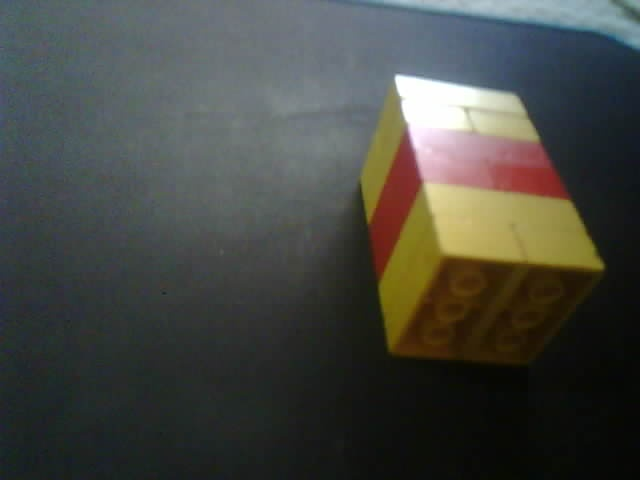lego: (358, 71, 607, 368)
